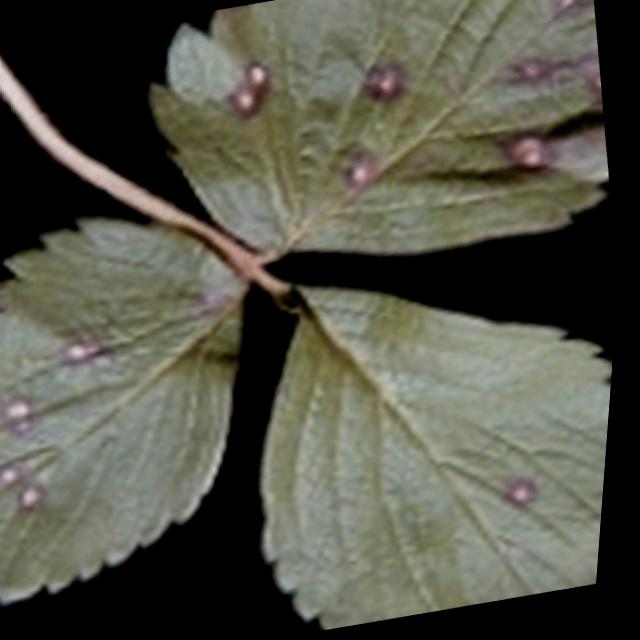Leaf Spot: (265, 284, 618, 632), (148, 0, 613, 257), (0, 215, 253, 606)
